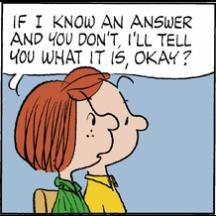charlie: (81, 73, 151, 214)
